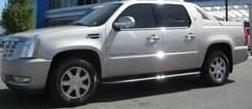front_view: (1, 30, 46, 93)
headlight: (20, 37, 39, 62)
side_glass: (116, 2, 194, 33)
